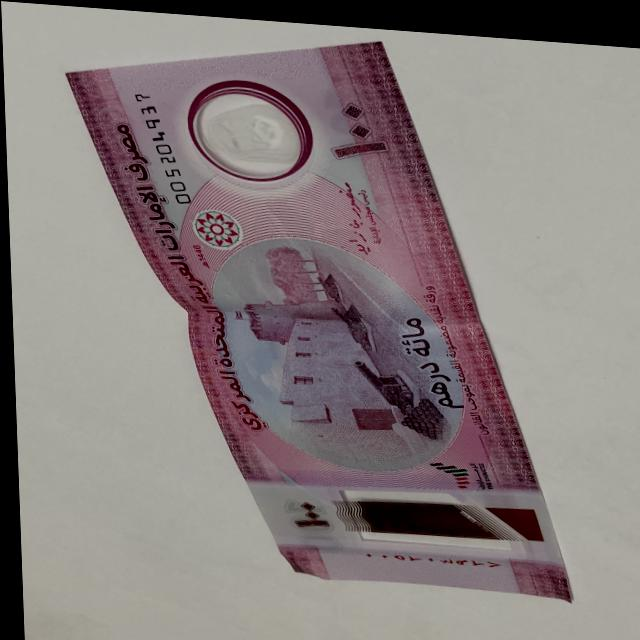100_AED: (56, 34, 572, 602)
